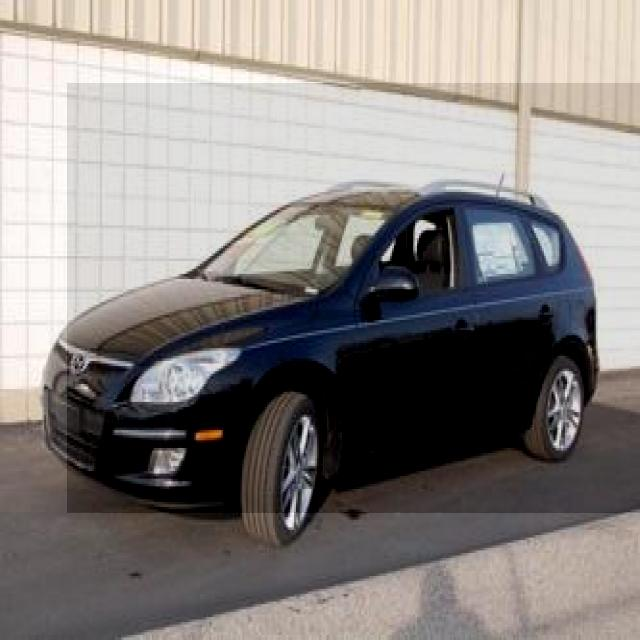Car: (67, 83, 640, 513)
